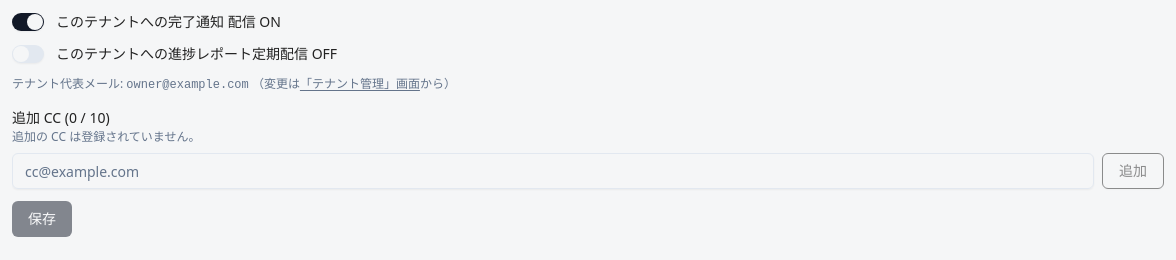
Test: TenantCcForm › 追加ボタンで新しい chip を追加する
Expected: the text "追加 CC (0 / 10)" is shown, top-left (12, 108), bottom-right (110, 127)
Step 1. Type "new@example.com" into the field named "追加する CC メール" → [553, 171], box top-left (12, 153), bottom-right (1094, 189)
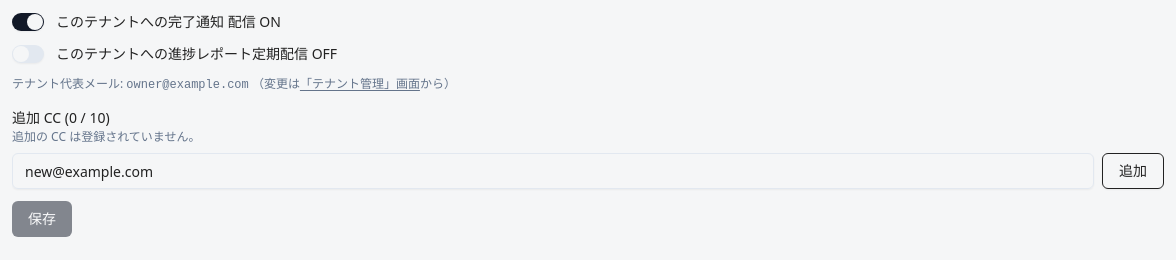
Step 2. Click the button "追加" → [1133, 171], box top-left (1102, 153), bottom-right (1164, 189)
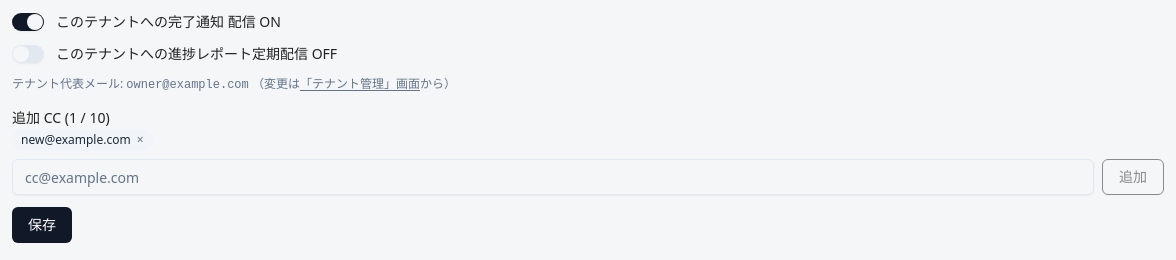
Result: the text "new@example.com" is shown at top-left (21, 131), bottom-right (131, 148)
Result: the text "追加 CC (1 / 10)" is shown at top-left (12, 108), bottom-right (110, 127)
